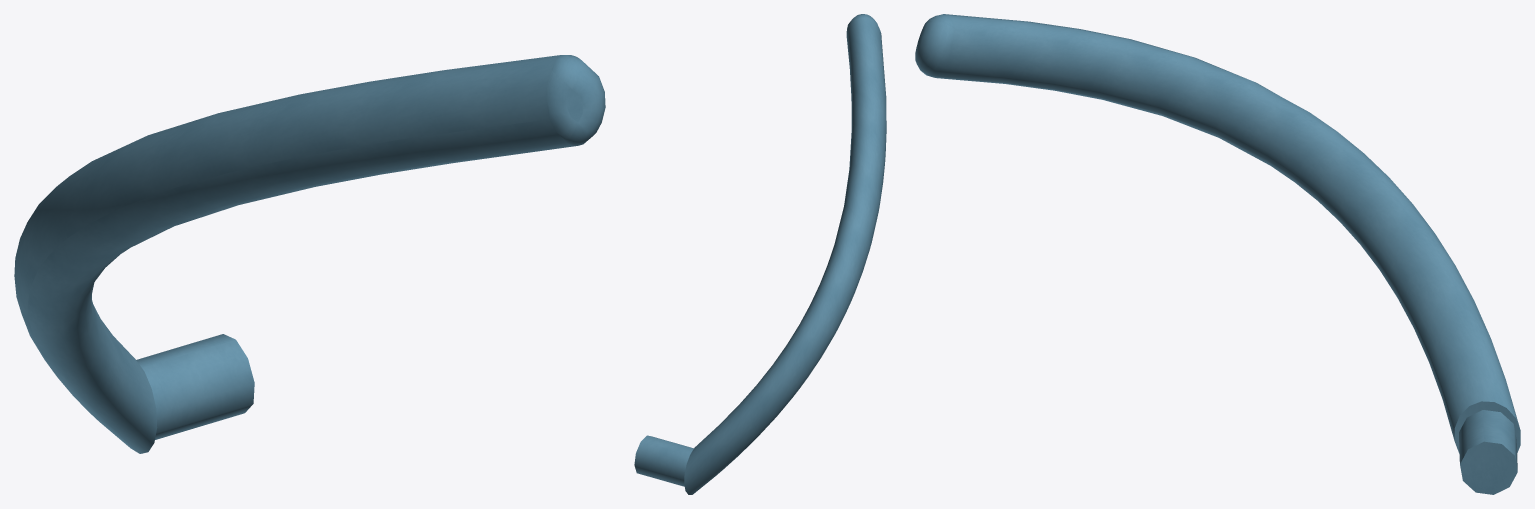
File: brazoDerecho.obj
The picture shows the model from 3 angles, left to right: view 1: azimuth 30°, elevation 25°; view 2: azimuth 150°, elevation 25°; view 3: azimuth 270°, elevation 25°; orthographic projection. The views are drawn at different scales.
Visible parts, largest first — view 1: polySurface16 polySurface9; view 2: polySurface16 polySurface9; view 3: polySurface16 polySurface9.
Boxes of the visible parts, x1,y1,x2,y2 form: polySurface16 polySurface9: [14, 55, 605, 453]; polySurface16 polySurface9: [634, 14, 886, 494]; polySurface16 polySurface9: [915, 14, 1520, 494].
Bounding box in the file's own units: 0.4076 × 0.8696 × 1.01.
1 material, 1 textured.
